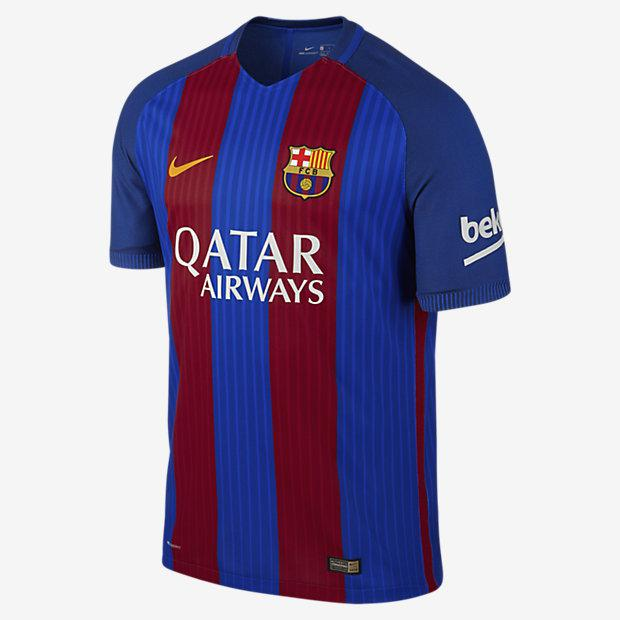teeshirt: (91, 6, 533, 614)
